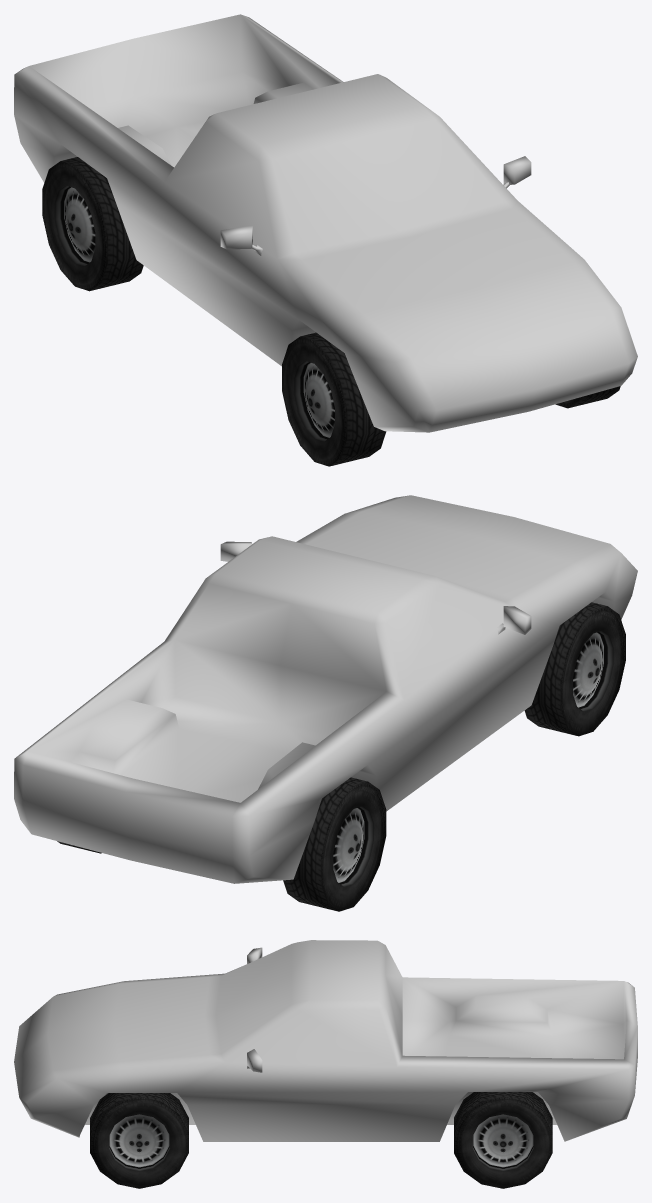
The model's file is PFB-Vehicle-02.fbx.
3 renders of one model, top to bottom at view 1: azimuth 30°, elevation 25°; view 2: azimuth 150°, elevation 25°; view 3: azimuth 270°, elevation 25°, orthographic. The views are drawn at different scales.
Parts seen in each view (by area): view 1: vehicle-02, vehicle-02-wheel-FR, vehicle-02-wheel-BR; view 2: vehicle-02, vehicle-02-wheel-FR, vehicle-02-wheel-BR; view 3: vehicle-02, vehicle-02-wheel-BL, vehicle-02-wheel-FL.
Part boxes in pixels (x1=…): vehicle-02: x1=14, y1=14, x2=637, y2=432; vehicle-02-wheel-FR: x1=282, y1=332, x2=386, y2=466; vehicle-02-wheel-BR: x1=42, y1=157, x2=143, y2=291; vehicle-02: x1=14, y1=495, x2=637, y2=883; vehicle-02-wheel-FR: x1=524, y1=602, x2=625, y2=736; vehicle-02-wheel-BR: x1=283, y1=777, x2=386, y2=911; vehicle-02: x1=14, y1=940, x2=637, y2=1141; vehicle-02-wheel-BL: x1=454, y1=1092, x2=552, y2=1188; vehicle-02-wheel-FL: x1=90, y1=1093, x2=188, y2=1188.
Bounding box in the file's own units: 306 × 211 × 715.
